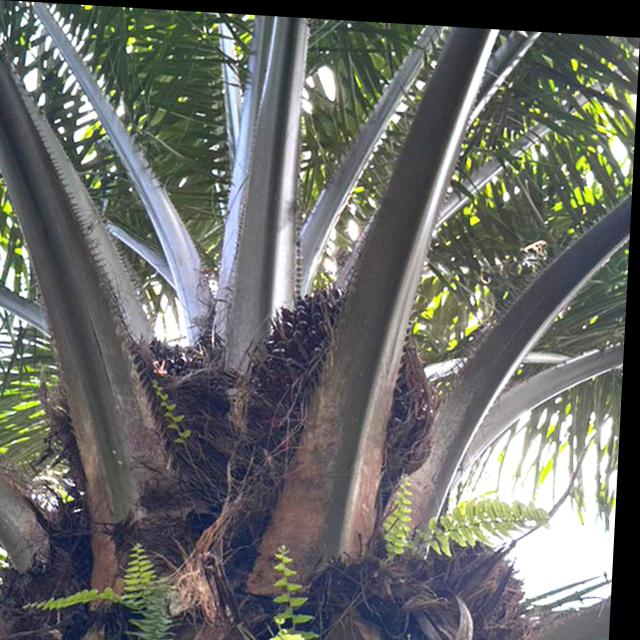ripe: (237, 251, 466, 487)
